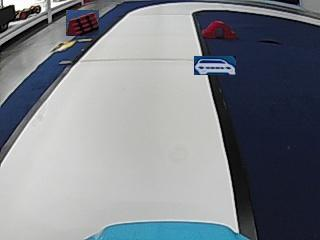bridge: (202, 20, 235, 39)
